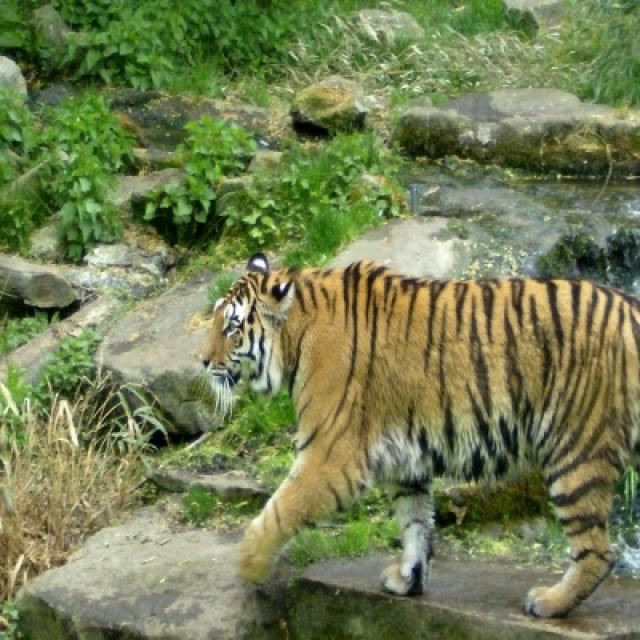Tiger: (199, 249, 638, 619)
